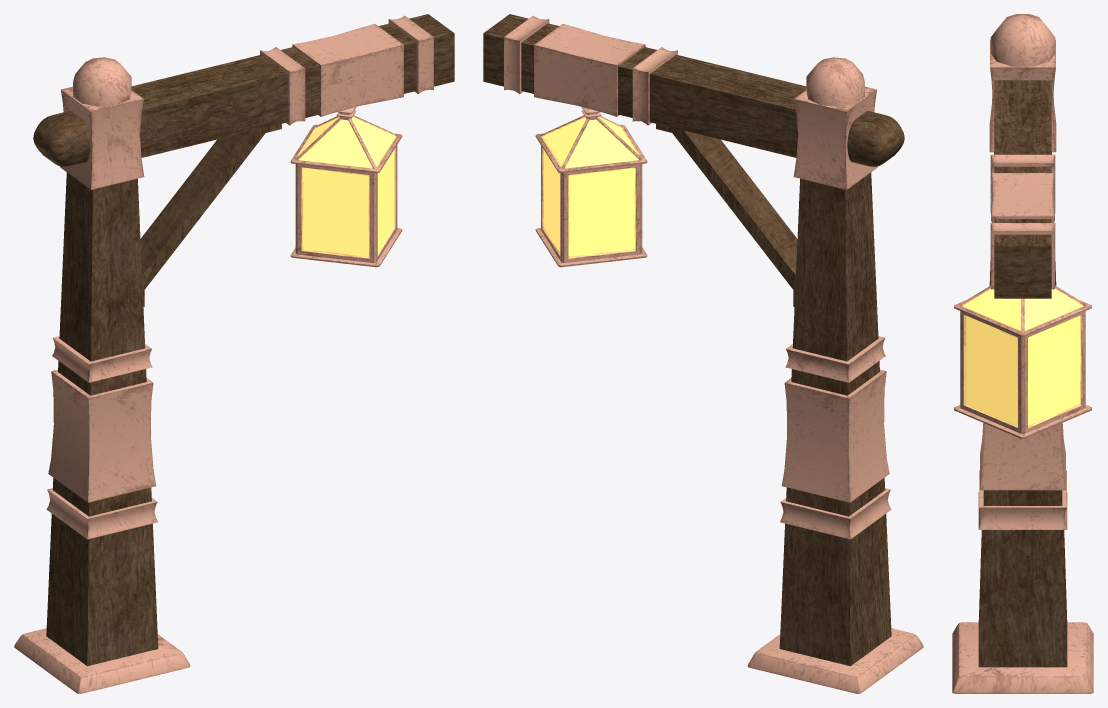
Rendered from lamp.gltf.
3 renders of one model, left to right at view 1: azimuth 30°, elevation 25°; view 2: azimuth 150°, elevation 25°; view 3: azimuth 270°, elevation 25°, orthographic. The views are drawn at different scales.
Parts seen in each view (by area): view 1: Object002__0, Box016__0, Object001__0; view 2: Object002__0, Box016__0, Object001__0; view 3: Box016__0, Object002__0, Object001__0.
Part boxes in pixels (x1=…): Object002__0: x1=33, y1=14, x2=454, y2=666; Box016__0: x1=14, y1=15, x2=433, y2=693; Object001__0: x1=290, y1=107, x2=402, y2=267; Object002__0: x1=483, y1=14, x2=904, y2=666; Box016__0: x1=504, y1=15, x2=923, y2=693; Object001__0: x1=535, y1=107, x2=647, y2=267; Box016__0: x1=952, y1=14, x2=1093, y2=693; Object002__0: x1=978, y1=80, x2=1067, y2=667; Object001__0: x1=954, y1=285, x2=1091, y2=438.
Size of the model in its own units: 2.12 by 3.03 by 0.5983.
1 material, 1 textured.
